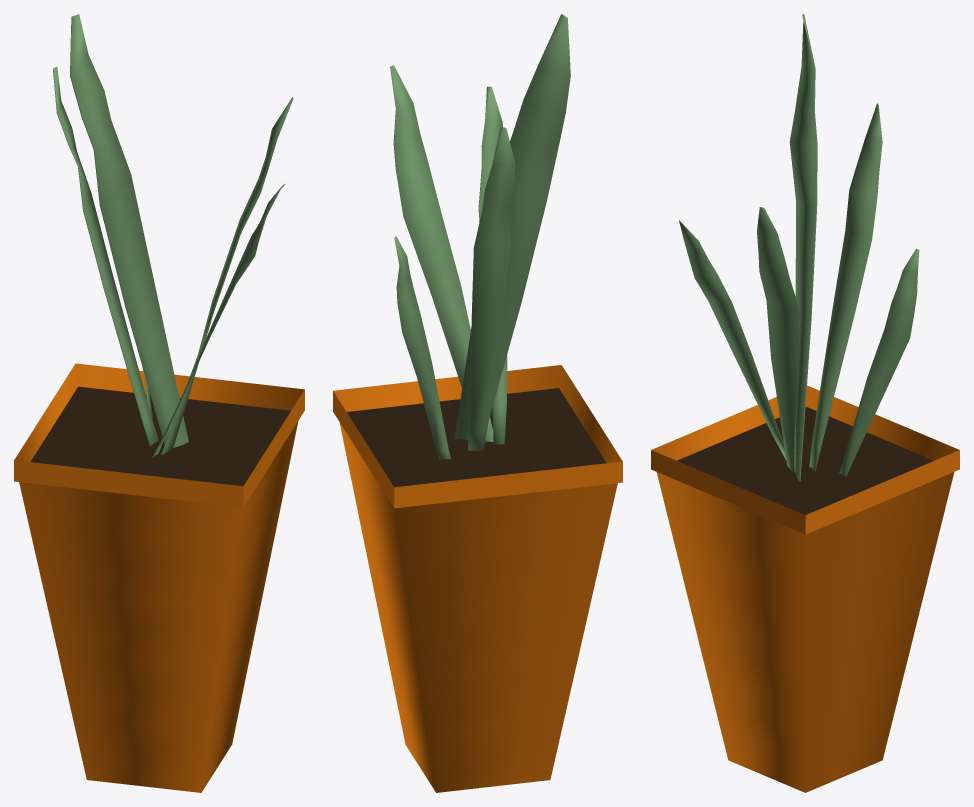
The model's file is plant.obj.
3 views of the same model, side by side, from view 1: azimuth 30°, elevation 25°; view 2: azimuth 150°, elevation 25°; view 3: azimuth 270°, elevation 25° (orthographic). The views are drawn at different scales.
Visible parts, largest first — view 1: polySurface1862; view 2: polySurface1862; view 3: polySurface1862.
Part boxes in pixels (x1=…): polySurface1862: x1=14, y1=14, x2=304, y2=792; polySurface1862: x1=333, y1=14, x2=622, y2=792; polySurface1862: x1=651, y1=14, x2=959, y2=792.
Size of the model in its own units: 0.5159 by 1.31 by 0.5159.
Materials: 3 (3 with a texture image).
